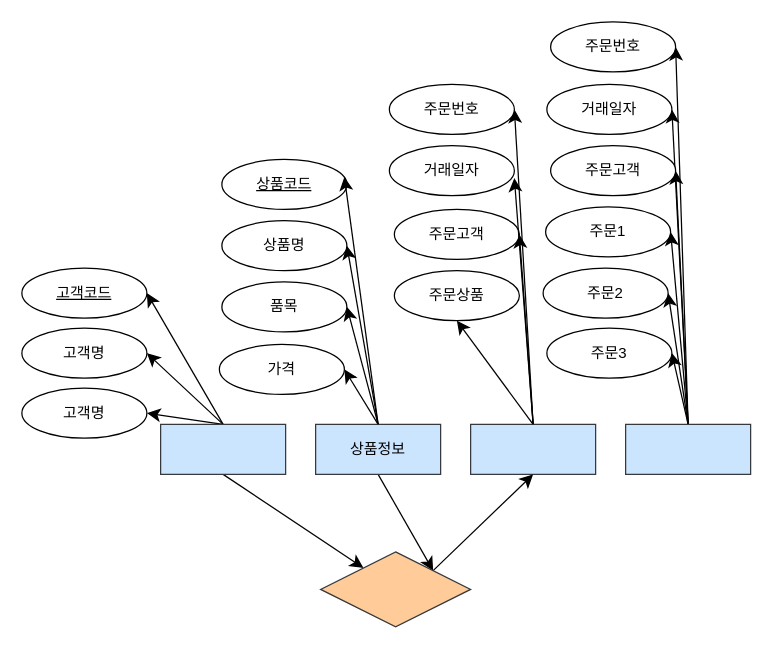
The diagram is 773 pixels wide and 649 high, and some of its shapes have lost their labels. Here are the shapes that lost their labels. From the top down, the centre of each, then its label:
At pixel 222 448: "고객정보".
At pixel 532 448: "주문내역".
At pixel 687 448: "주문원장".
At pixel 395 589: "상품주문".
